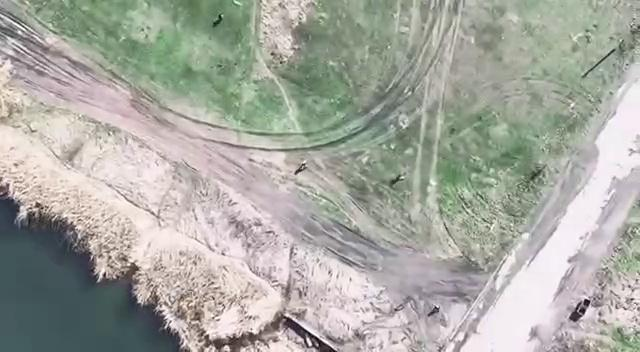person: (431, 304, 442, 314), (396, 172, 406, 182), (300, 160, 308, 172), (218, 14, 224, 25)
